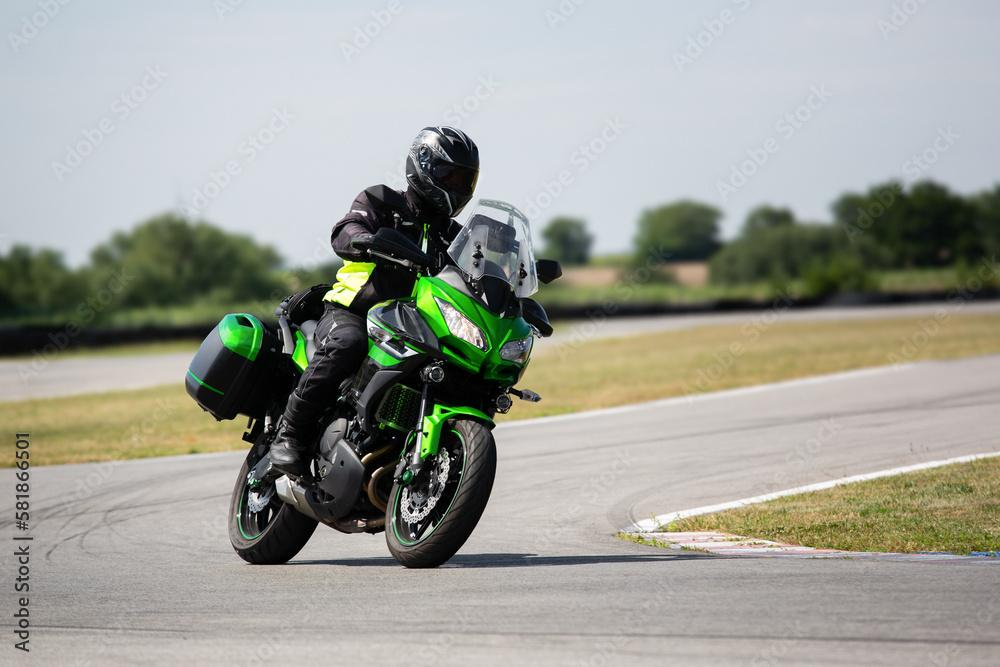helmet: (405, 125, 481, 218)
